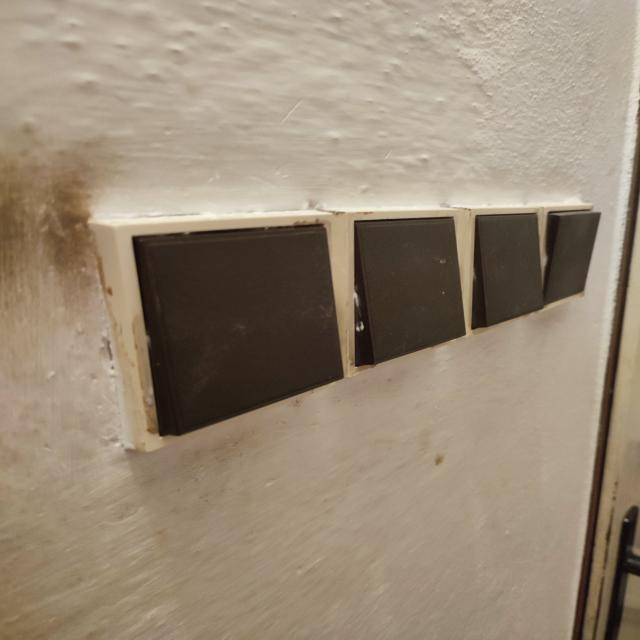house switch: (88, 210, 344, 452), (329, 207, 466, 378), (455, 205, 544, 337), (539, 198, 602, 315)
